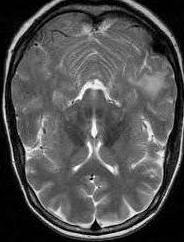Normal_Brain: (1, 1, 184, 242)
